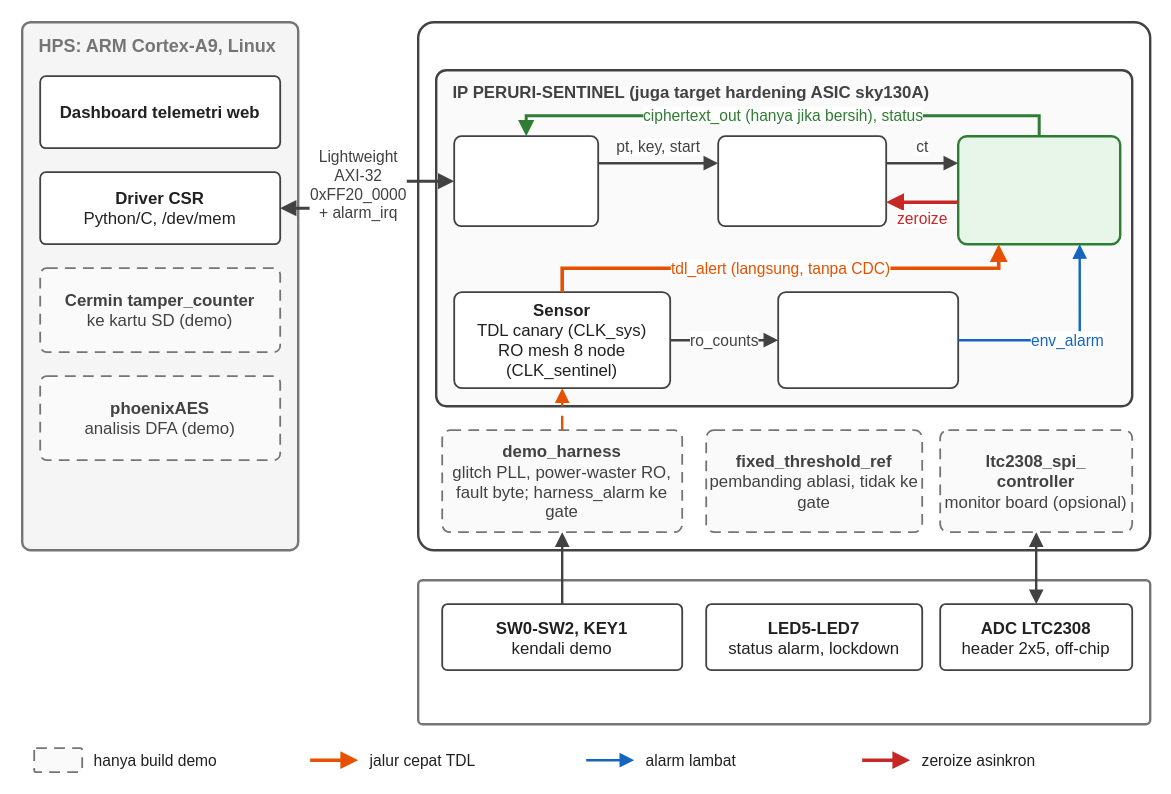
Some shapes in this 1171 by 794 pixel diagram are drawn without their labels. Each missing label, with the box of its shape:
csr_lite_slave AXI-lite: (453, 135, 599, 227)
FPGA fabric Cyclone V (5CSEBA6U23I7): (416, 20, 1151, 551)
Inti kripto AES-128, DPA hiding, key vault: (717, 135, 887, 227)
Keputusan P2SE + filter LIF, koinsidensi: (777, 291, 959, 389)
Papan DE10-Nano: (416, 578, 1151, 725)
Respon Output Release Gate, FSM bertingkat, tripwire: (956, 134, 1121, 245)
